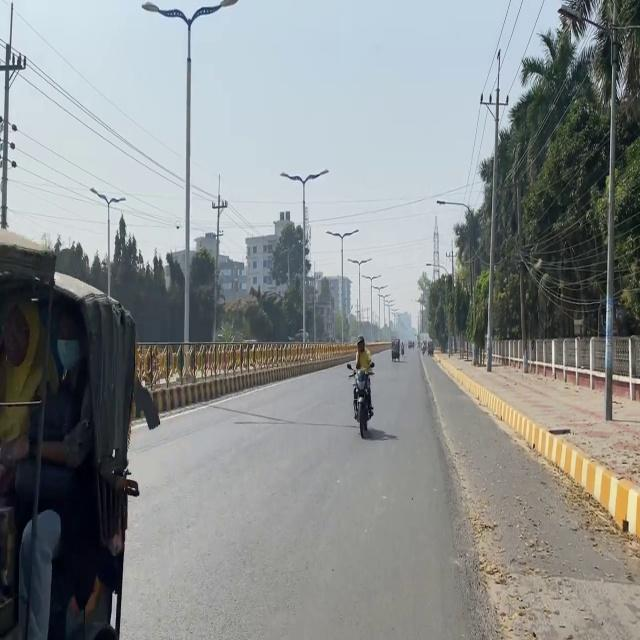Construction-barrier: (417, 343, 500, 638), (536, 420, 640, 510)
Dog: (0, 239, 155, 638)
Fallen-tree: (345, 361, 375, 438)
Garbage-bin: (353, 336, 374, 418)
Light-pole: (598, 40, 630, 438)
Pole: (174, 332, 340, 412)
Pothole: (418, 346, 639, 638)
